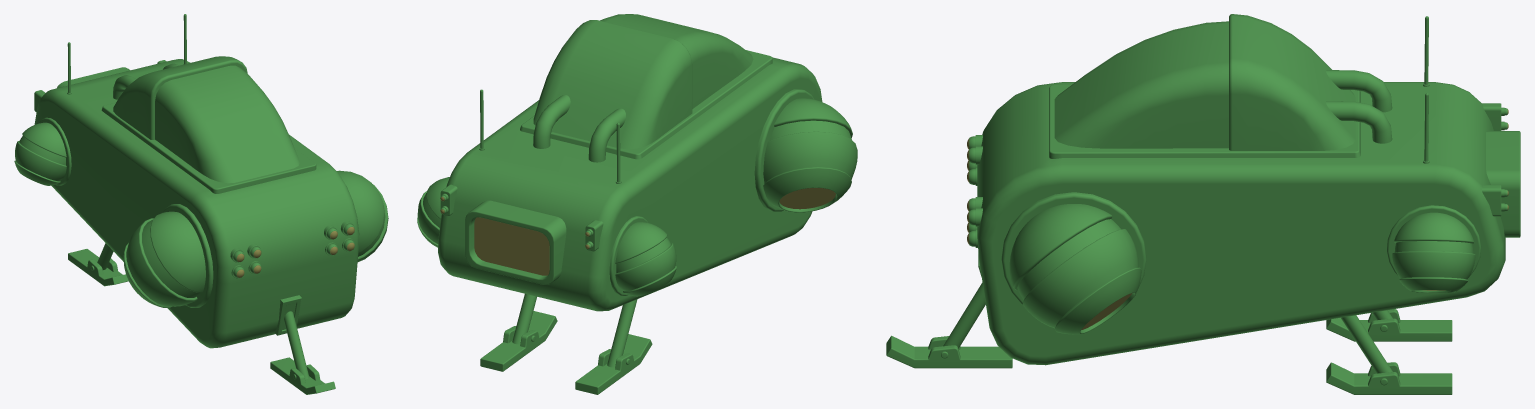
File: SM_Spaceship.fbx
3 renders of one model, left to right at view 1: azimuth 30°, elevation 25°; view 2: azimuth 150°, elevation 25°; view 3: azimuth 270°, elevation 25°, orthographic. The views are drawn at different scales.
Parts seen in each view (by area): view 1: Body_low, Thruster_low, Front_Window_low, Feet_low, Back_Window_low, Lights_low, Exaust_low, Pipes_low; view 2: Body_low, Thruster_low, Back_Window_low, Exaust_low, Feet_low, Front_Window_low, Pipes_low, Back_Light_Support_low, Antenna_low; view 3: Body_low, Thruster_low, Front_Window_low, Back_Window_low, Feet_low, Pipes_low, Exaust_low, Lights_low, Back_Light_Support_low, Antenna_low.
Boxes of the visible parts, <box> form: Body_low: <box>34,59,359,348</box>; Thruster_low: <box>14,117,388,307</box>; Front_Window_low: <box>155,65,299,183</box>; Feet_low: <box>68,243,335,394</box>; Back_Window_low: <box>113,56,247,139</box>; Lights_low: <box>34,62,354,278</box>; Exaust_low: <box>57,67,129,88</box>; Pipes_low: <box>113,63,179,99</box>; Body_low: <box>438,50,822,311</box>; Thruster_low: <box>417,89,857,296</box>; Back_Window_low: <box>533,20,692,149</box>; Exaust_low: <box>465,200,566,284</box>; Feet_low: <box>480,294,652,394</box>; Front_Window_low: <box>600,14,753,108</box>; Pipes_low: <box>533,95,625,162</box>; Back_Light_Support_low: <box>440,184,603,251</box>; Antenna_low: <box>479,89,621,183</box>; Body_low: <box>977,82,1505,365</box>; Thruster_low: <box>1001,192,1481,334</box>; Front_Window_low: <box>1054,21,1228,148</box>; Back_Window_low: <box>1229,14,1355,150</box>; Feet_low: <box>886,254,1452,394</box>; Pipes_low: <box>1326,70,1392,143</box>; Exaust_low: <box>1486,131,1520,237</box>; Lights_low: <box>967,107,1508,247</box>; Back_Light_Support_low: <box>1482,103,1501,216</box>; Antenna_low: <box>1423,16,1429,163</box>.
Size of the model in its own units: 599 by 544 by 962.
